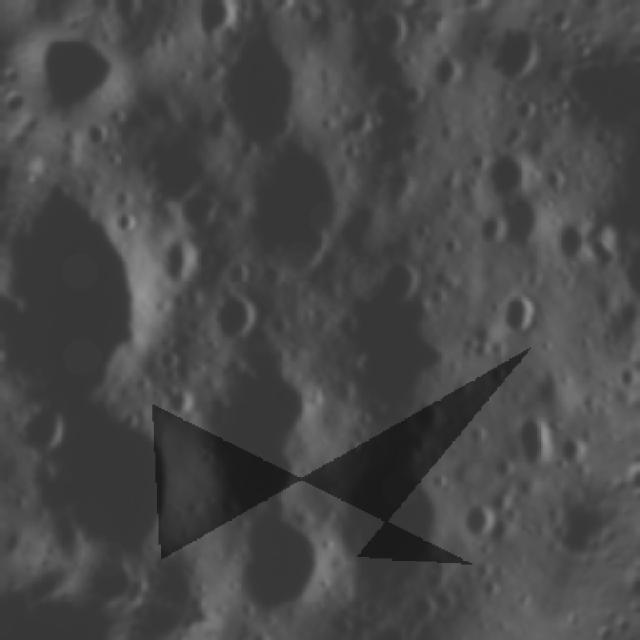crater: (0, 162, 203, 440), (9, 376, 216, 587), (302, 444, 484, 619), (188, 4, 348, 170), (204, 481, 370, 640), (227, 133, 379, 298), (52, 22, 152, 149), (1, 384, 82, 473), (356, 241, 436, 324), (500, 400, 577, 482), (474, 135, 554, 210), (197, 279, 268, 352), (489, 280, 556, 352), (167, 180, 233, 246), (179, 0, 255, 57), (535, 206, 596, 272), (448, 491, 510, 551), (418, 42, 477, 98), (155, 374, 210, 431), (465, 201, 520, 257), (504, 90, 548, 132)
